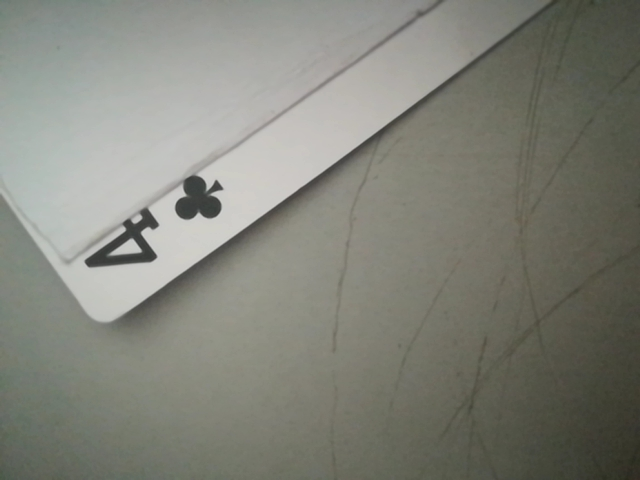mh 4: (67, 166, 245, 290)
